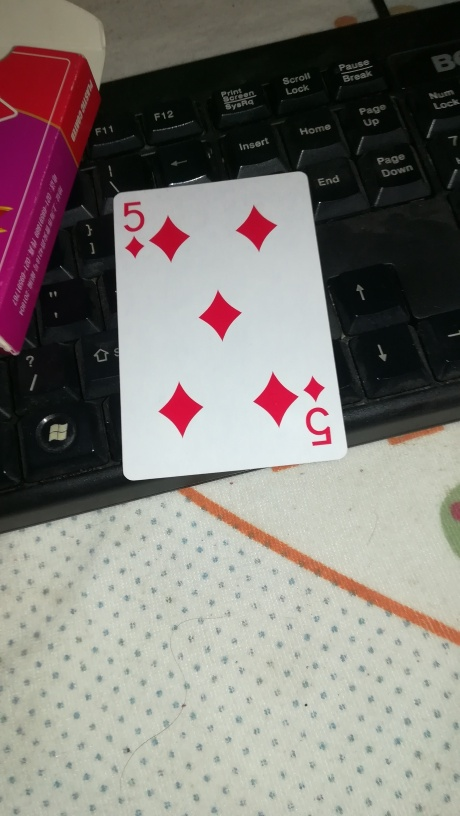fk 5: (112, 171, 351, 479)
